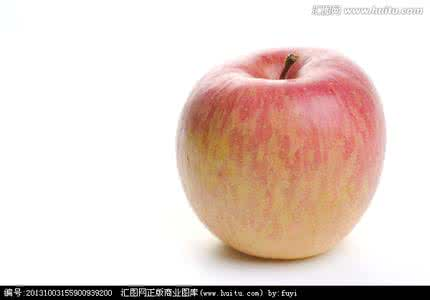apple: (170, 42, 385, 257)
